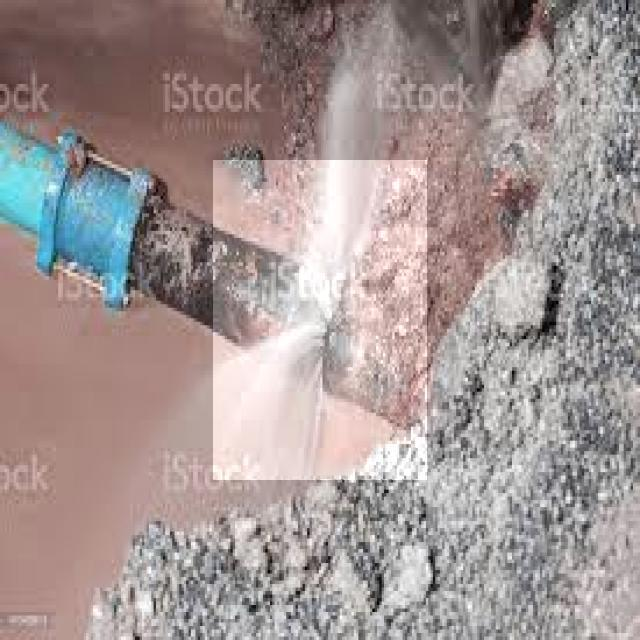corrosion: (228, 207, 427, 458)
